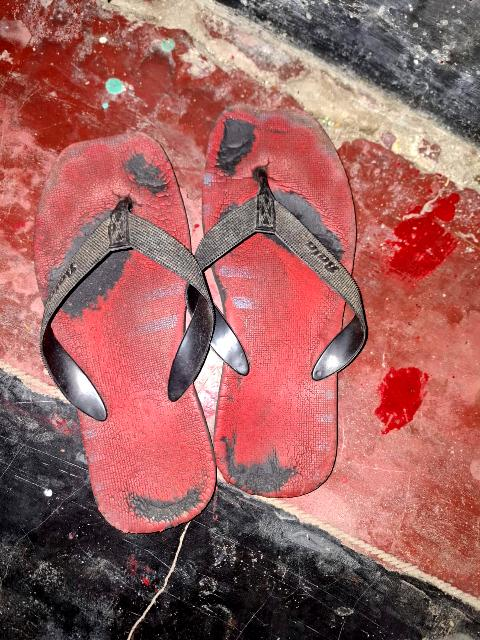sandal: (21, 128, 231, 533), (205, 93, 352, 488)
